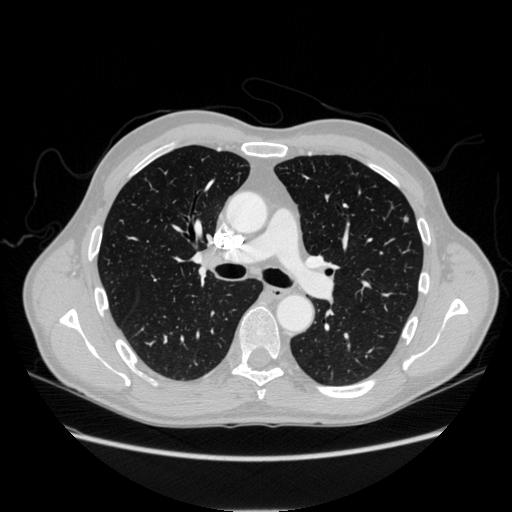nodule: (401, 214, 412, 225)
